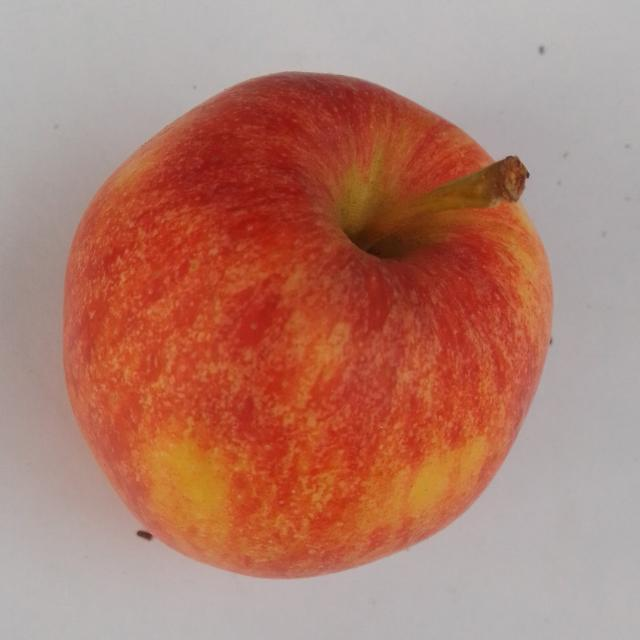Fresh Apple: (56, 65, 562, 585)
